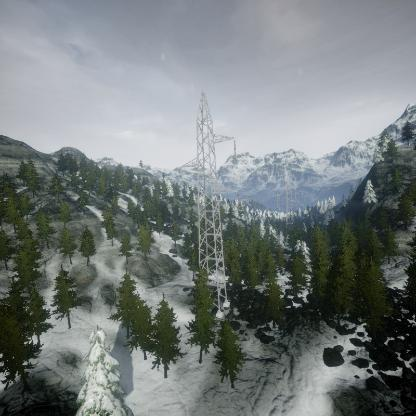tower: (174, 87, 241, 320)
